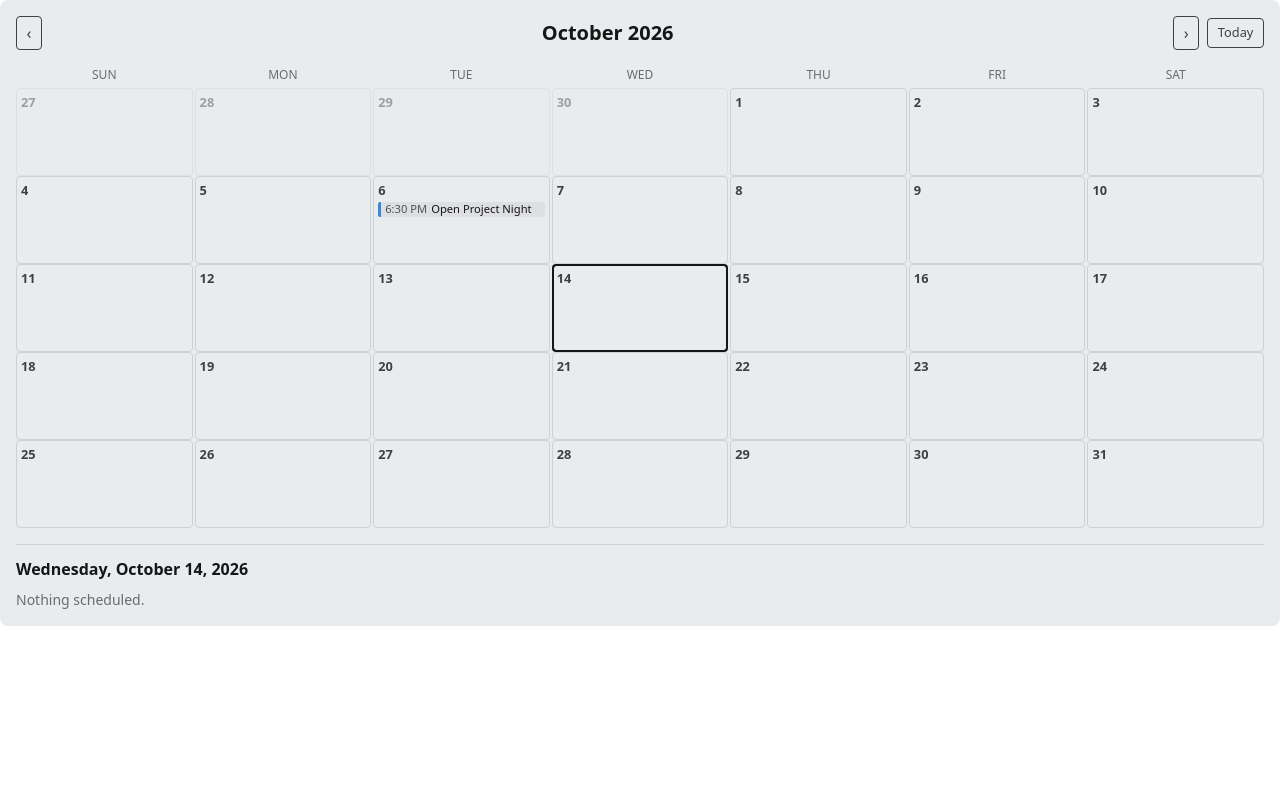
it: the day panel › lists the selected day’s events with times in the space’s zone
This screenshot has width=1280, height=800.
What coordinates should you click on to do the following:
click the button "6 6:30 PM Open Project Night"
I would click on:
 (461, 220)
Its box is [373,176,550,264].
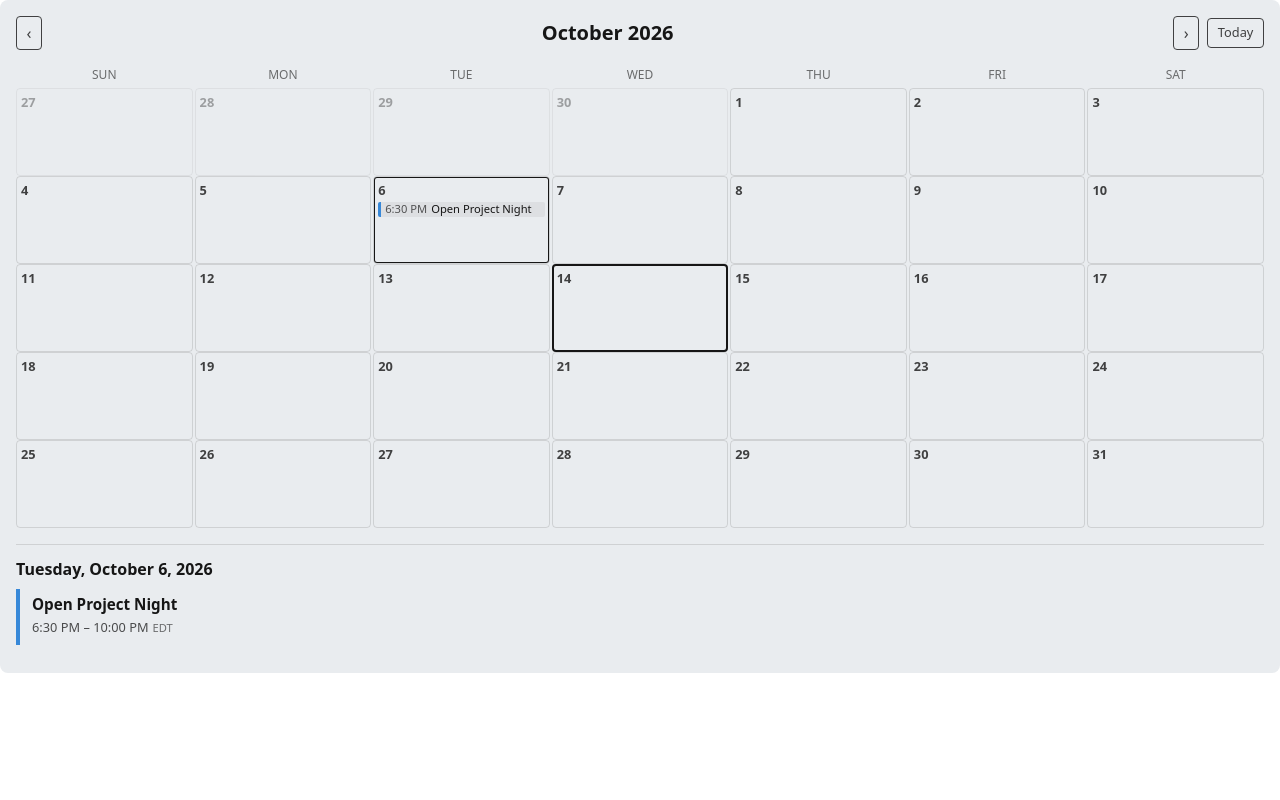
Check: the element with test id "day-detail" shows "Tuesday, October 6, 2026", box [16,558,213,580]
Check: the element with test id "day-detail" shows "6:30 PM", box [32,618,80,636]
Check: the element with test id "day-detail" shows "10:00 PM", box [80,618,149,636]
